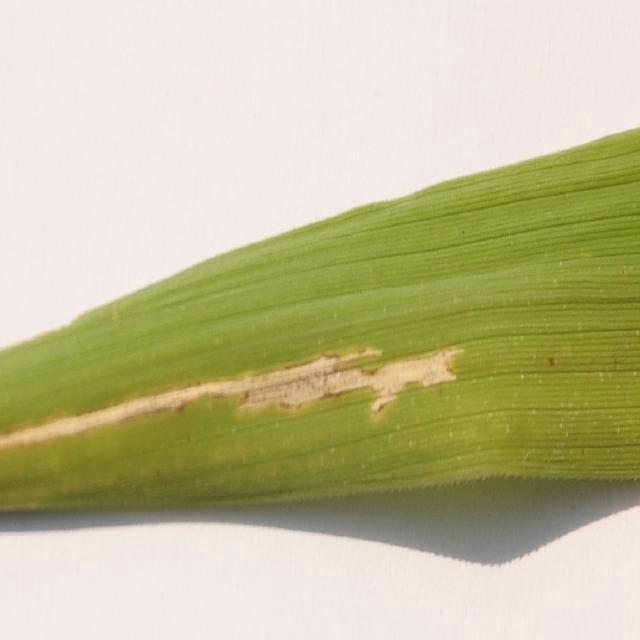bacterial_leaf_blight: (0, 347, 462, 450)
